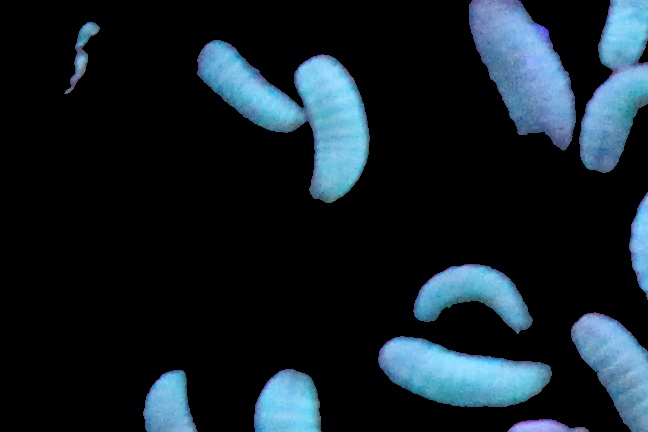larvae: (470, 1, 576, 163), (377, 338, 553, 412), (295, 54, 373, 203), (198, 41, 305, 132), (570, 310, 648, 432), (411, 257, 536, 330), (578, 64, 648, 173), (254, 363, 323, 432), (136, 369, 193, 432), (597, 1, 648, 69)
